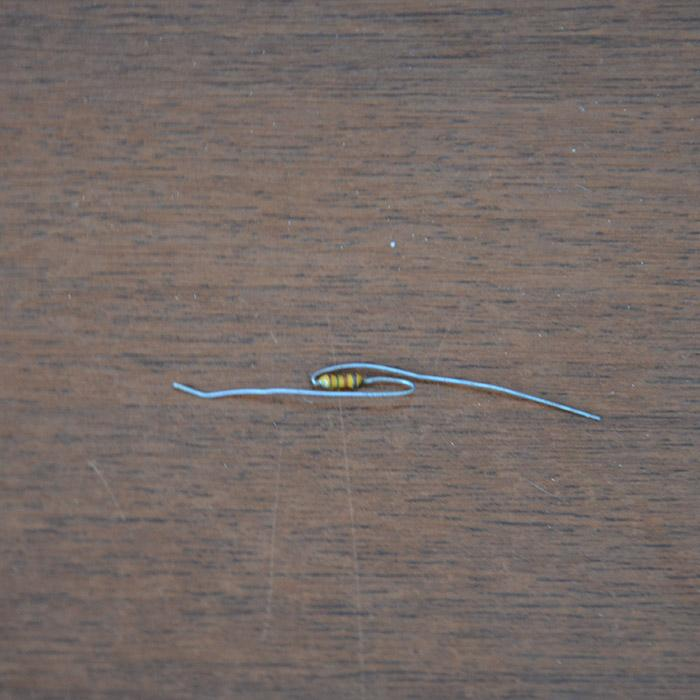resistor: (314, 373, 366, 390)
